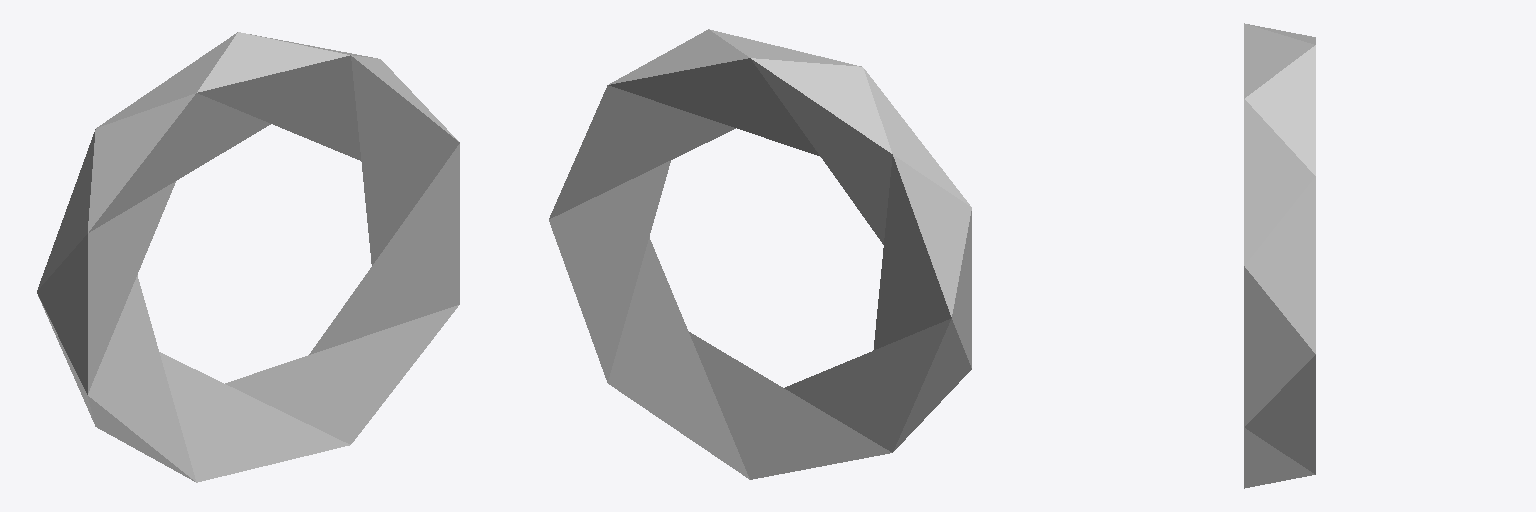
The model's file is AntiOctagonalIrisToroid.obj.
3 views of the same model, side by side, from view 1: azimuth 30°, elevation 25°; view 2: azimuth 150°, elevation 25°; view 3: azimuth 270°, elevation 25° (orthographic).
Bounding box in the file's own units: 2.61 × 2.61 × 0.4.